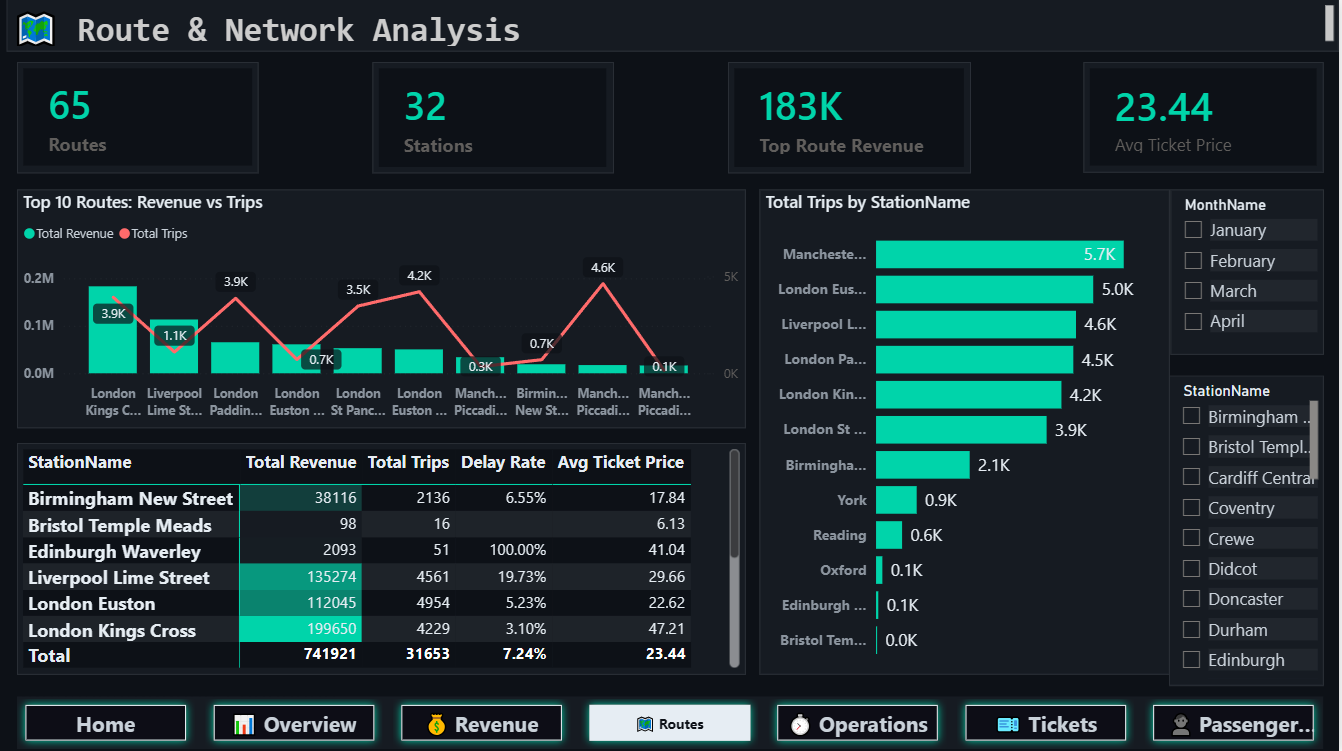

What the dashboard file says about the page in this screenshot:
{"tool":"powerbi","page":{"name":"🗺️ Routes","canvas":[1280,720],"ordinal":2},"visuals":[{"type":"lineClusteredColumnComboChart","title":"Top 10 Routes: Revenue vs Trips","fields":{"Category":["Fact_Tickets.Route"],"Y":["Measures_page1.Total Revenue"],"Y2":["Measures_page1.Total Trips"]},"box":[18.8,181.3,831.5,226.6],"z":0},{"type":"clusteredBarChart","fields":{"Category":["Dim_Station.StationName"],"Y":["Measures_page1.Total Trips"]},"box":[869,181.3,390.7,462.6],"z":1000},{"type":"pivotTable","fields":{"Rows":["Dim_Station.StationName"],"Values":["Measures_page1.Total Revenue","Measures_page1.Total Trips","Measures_page1.Delay Rate","Measures_page1.Avg Ticket Price"]},"box":[18.8,423.6,831.5,220.4],"z":2000},{"type":"textbox","box":[10,0,1270,50],"z":3000},{"type":"cardVisual","title":"Routes","fields":{"Data":["Measures_page3.Active Routes Count"]},"box":[20,60,230.2,106],"z":4000},{"type":"cardVisual","fields":{"Data":["CountNonNull(Dim_Station.StationID)"]},"box":[281.3,59.4,229.8,106.3],"z":5000},{"type":"cardVisual","fields":{"Data":["Measures_page3.Top Route Revenue"]},"box":[545.5,59.4,231.3,106.3],"z":6000},{"type":"cardVisual","fields":{"Data":["Measures_page1.Avg Ticket Price"]},"box":[794,59.4,229.8,106.3],"z":7000},{"type":"pageNavigator","box":[20.3,664.3,1244.1,50],"z":8000},{"type":"slicer","fields":{"Values":["Dim_Station.StationName"]},"box":[1078.5,0,165.7,71.9],"z":9000},{"type":"slicer","fields":{"Values":["Dim_Station.StationName"]},"box":[850.3,0,178.2,71.9],"z":10000}]}

Visuals, with their boxes in screenshot pixels (x1, y1, x2, y2), scaled from the page's 1280x720 canvas onto the 1342x751 screenshot:
"Top 10 Routes: Revenue vs Trips" lineClusteredColumnComboChart: pyautogui.locateOnScreen(20, 189, 891, 425)
clusteredBarChart - Dim_Station.StationName x Measures_page1.Total Trips: pyautogui.locateOnScreen(911, 189, 1321, 672)
pivotTable - Dim_Station.StationName x Measures_page1.Total Revenue: pyautogui.locateOnScreen(20, 442, 891, 672)
textbox: pyautogui.locateOnScreen(10, 0, 1341, 52)
"Routes" cardVisual: pyautogui.locateOnScreen(21, 63, 262, 173)
cardVisual - CountNonNull(Dim_Station.StationID): pyautogui.locateOnScreen(295, 62, 536, 173)
cardVisual - Measures_page3.Top Route Revenue: pyautogui.locateOnScreen(572, 62, 814, 173)
cardVisual - Measures_page1.Avg Ticket Price: pyautogui.locateOnScreen(832, 62, 1073, 173)
pageNavigator: pyautogui.locateOnScreen(21, 693, 1326, 745)
slicer - Dim_Station.StationName: pyautogui.locateOnScreen(1131, 0, 1304, 75)
slicer - Dim_Station.StationName: pyautogui.locateOnScreen(891, 0, 1078, 75)
